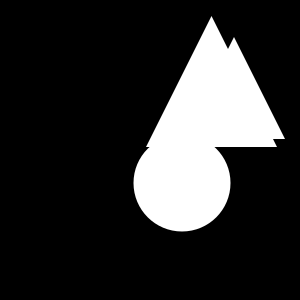rectangle: (134, 134, 230, 231)
triangle: (146, 16, 277, 147), (183, 37, 285, 139)
